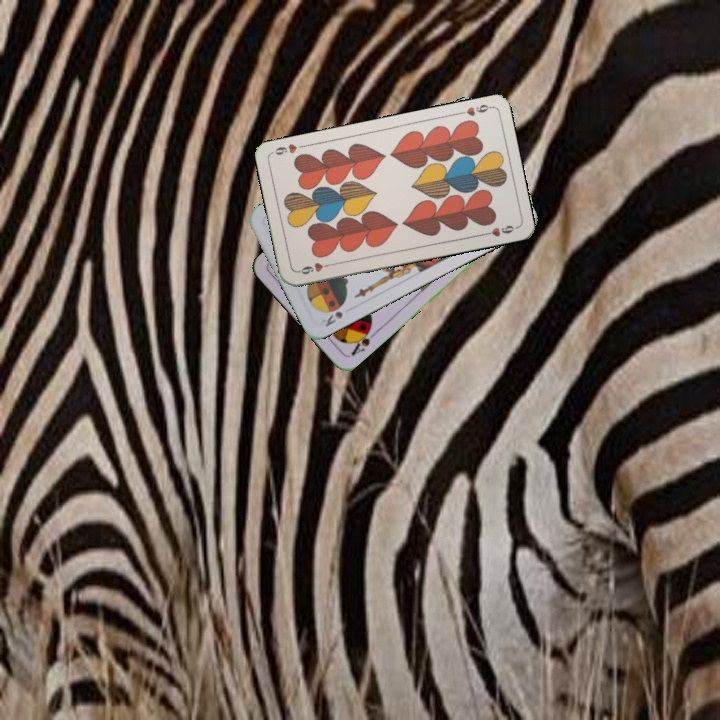H9: (293, 258, 334, 277), (453, 100, 494, 119)
SA: (346, 323, 379, 359)
SK: (321, 307, 346, 329)
